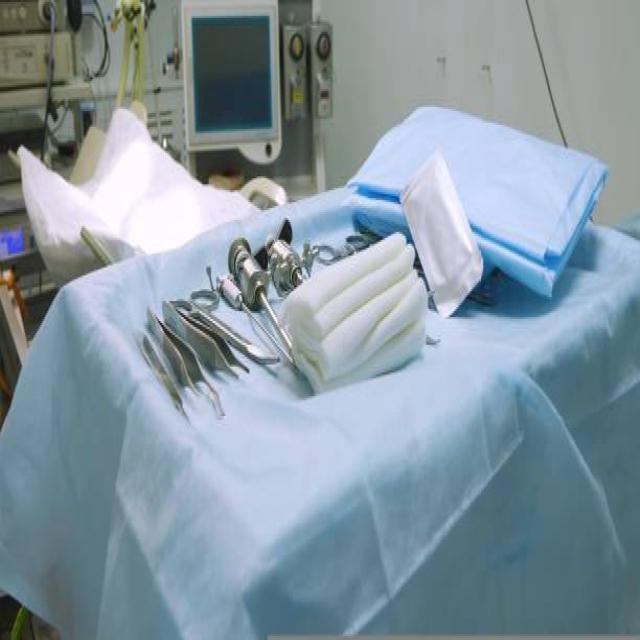Monitor: (171, 0, 294, 164)
tools_table: (48, 107, 640, 640)
